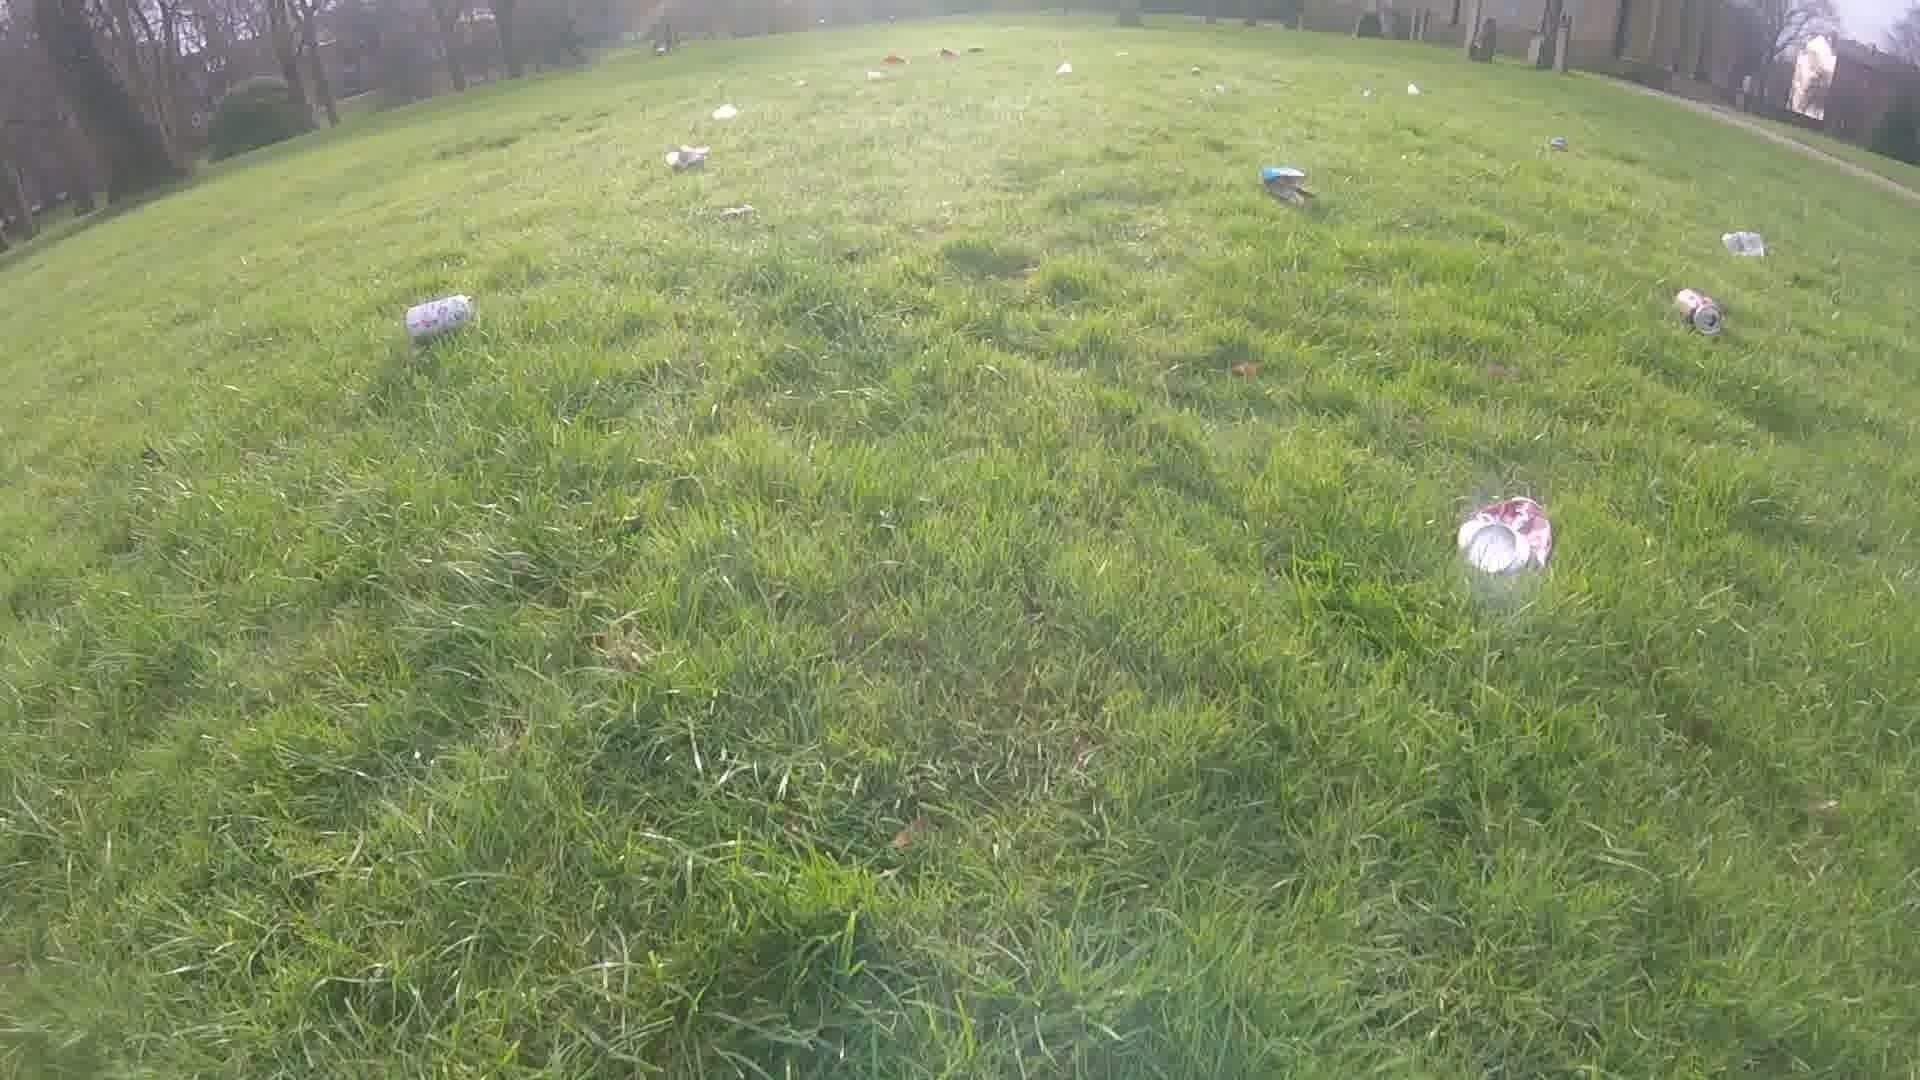litter: (1451, 491, 1552, 582), (401, 291, 465, 334), (1716, 222, 1771, 265), (1254, 160, 1305, 204), (1672, 289, 1720, 336), (651, 142, 705, 169), (705, 102, 741, 117), (1547, 131, 1573, 152), (961, 41, 992, 57), (934, 46, 961, 61), (1404, 78, 1422, 100), (1052, 57, 1069, 78), (876, 54, 906, 66), (862, 69, 884, 79)
